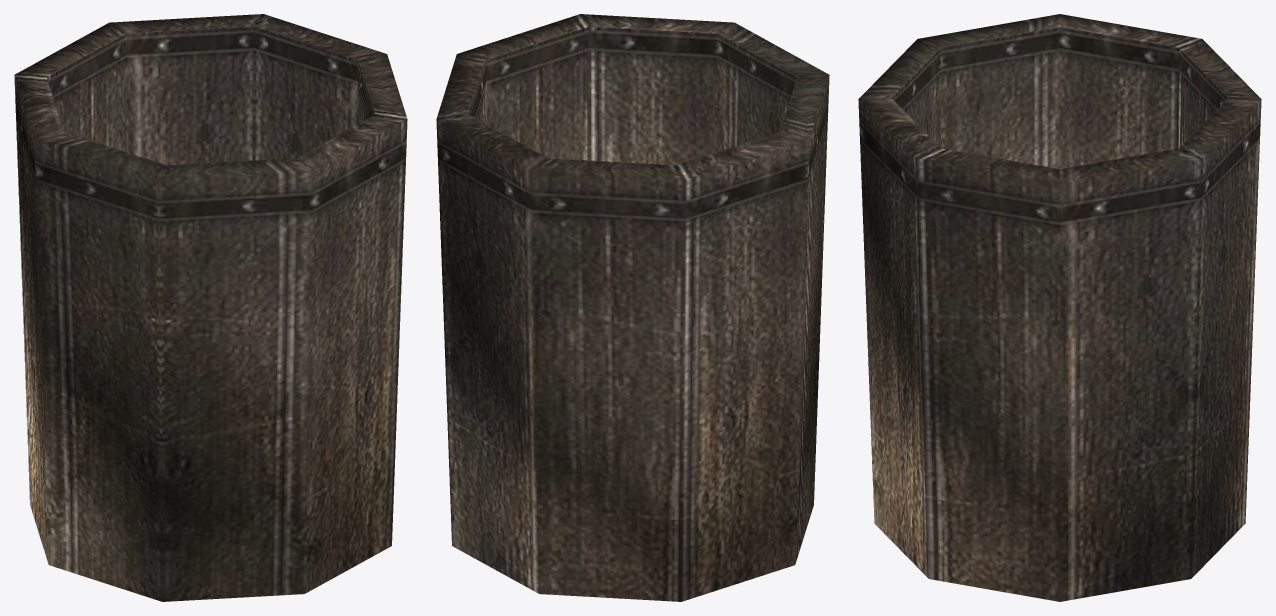
File: KM_VOB_WOOD_FOODCONTAINER_EMPTY.glb
The picture shows the model from 3 angles, left to right: view 1: azimuth 30°, elevation 25°; view 2: azimuth 150°, elevation 25°; view 3: azimuth 270°, elevation 25°; orthographic projection.
Visible parts, largest first — view 1: Mesh; view 2: Mesh; view 3: Mesh.
Boxes of the visible parts, x1=… form: Mesh: x1=14, y1=14, x2=407, y2=601; Mesh: x1=436, y1=14, x2=829, y2=601; Mesh: x1=858, y1=14, x2=1261, y2=601.
Size of the model in its own units: 0.4252 by 0.4952 by 0.4252.
1 material, 1 textured.
